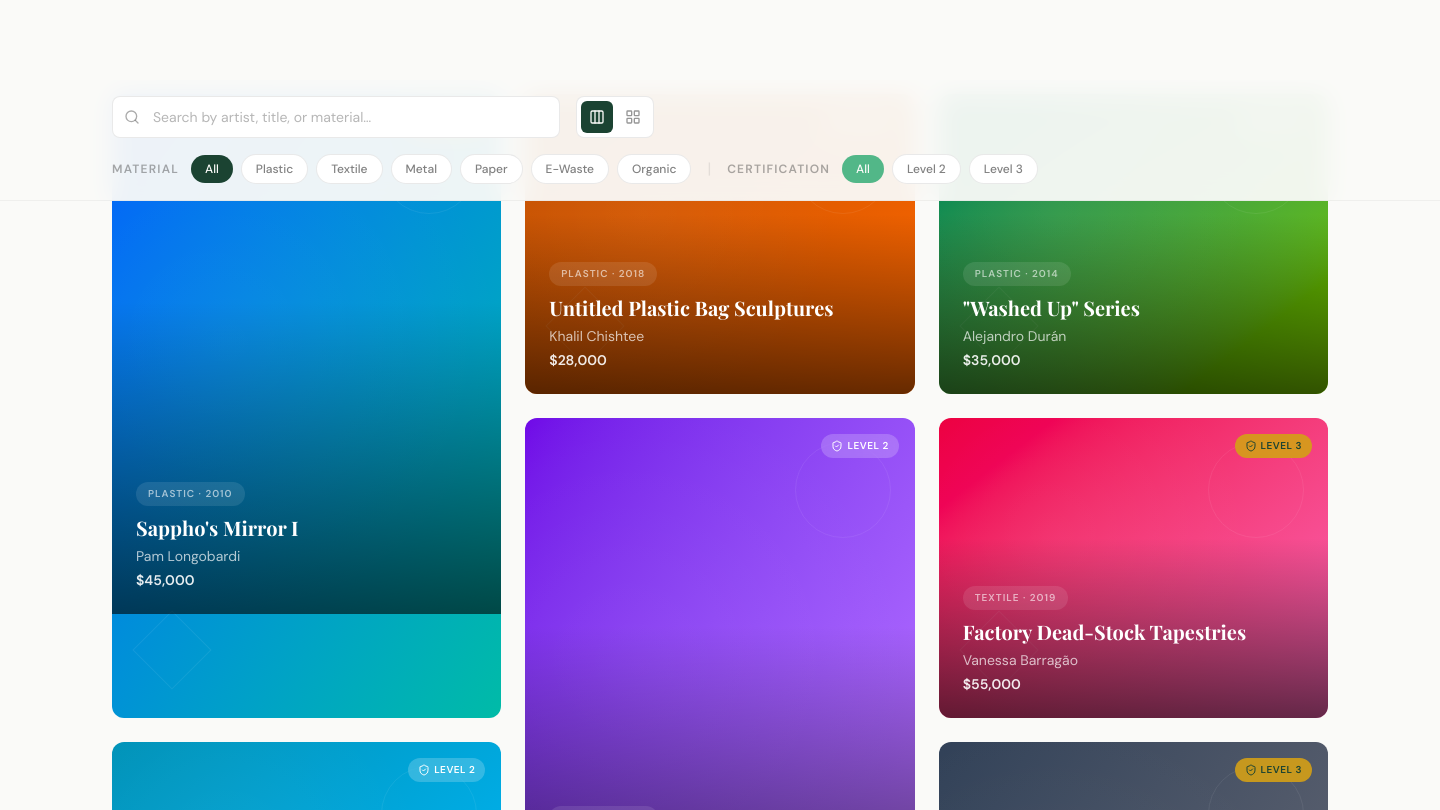
Test: Artwork Detail Modal › closes modal when close button is clicked
This screenshot has width=1440, height=810.
(page scrolled)
Click the button with aria-label "View Sappho's Mirror I by Pam Longobardi". click: (307, 406)
box: [112,94,501,718]
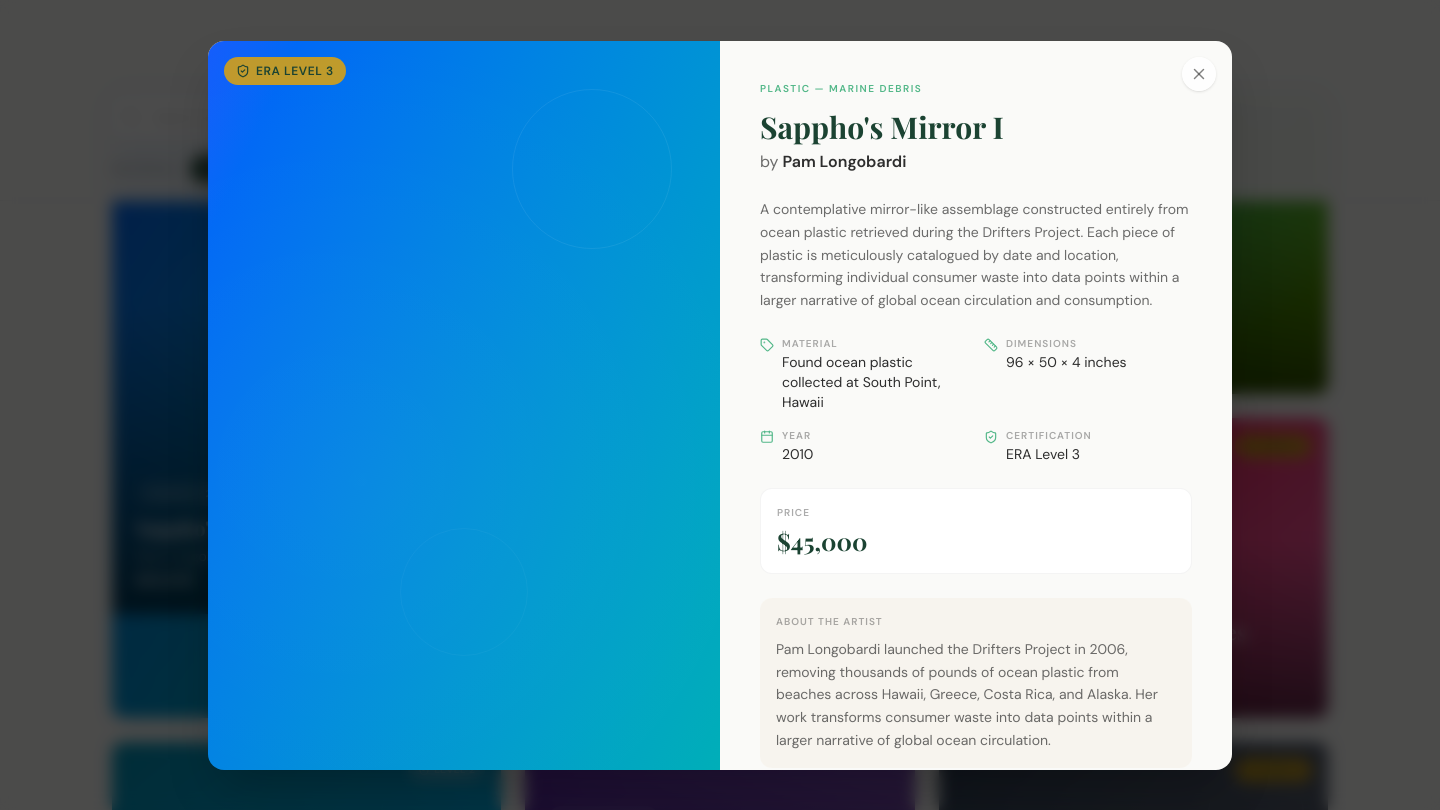
Now the dialog is shown
Click the button named "Close artwork details". click: (1199, 74)
box: [1182,56,1216,90]
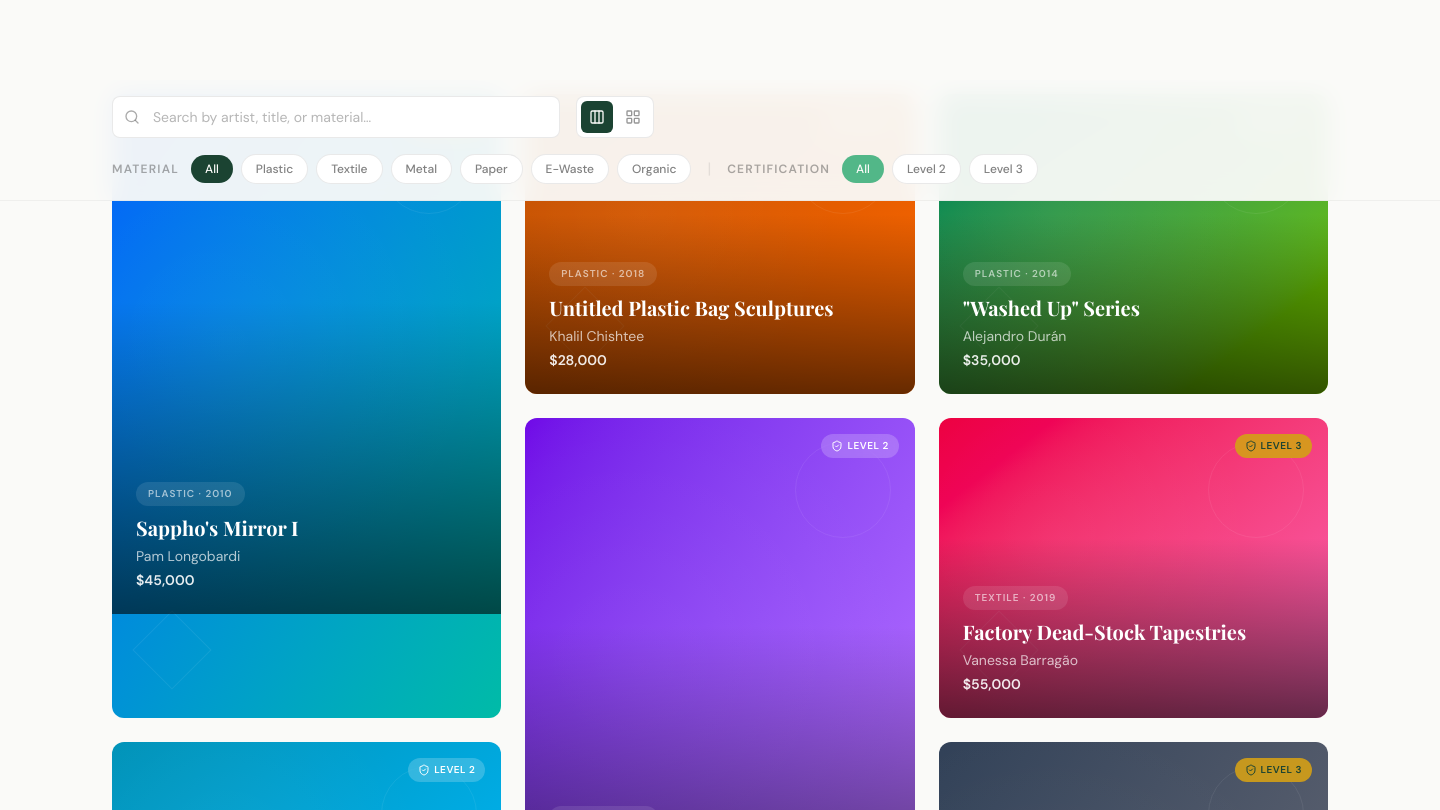
Now the dialog is gone
